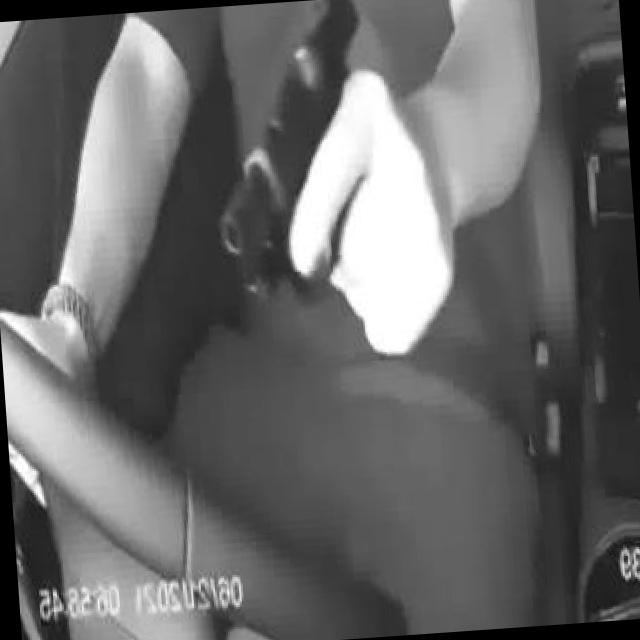Guns: (200, 0, 397, 321)
